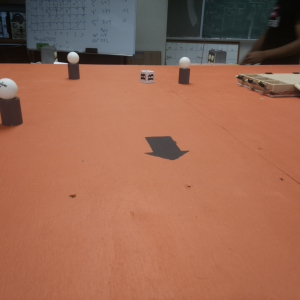blockB: (138, 69, 156, 83)
obstacle: (1, 78, 25, 128), (176, 55, 194, 85), (65, 51, 82, 80)
side: (227, 75, 287, 99)
start: (139, 133, 190, 162)
